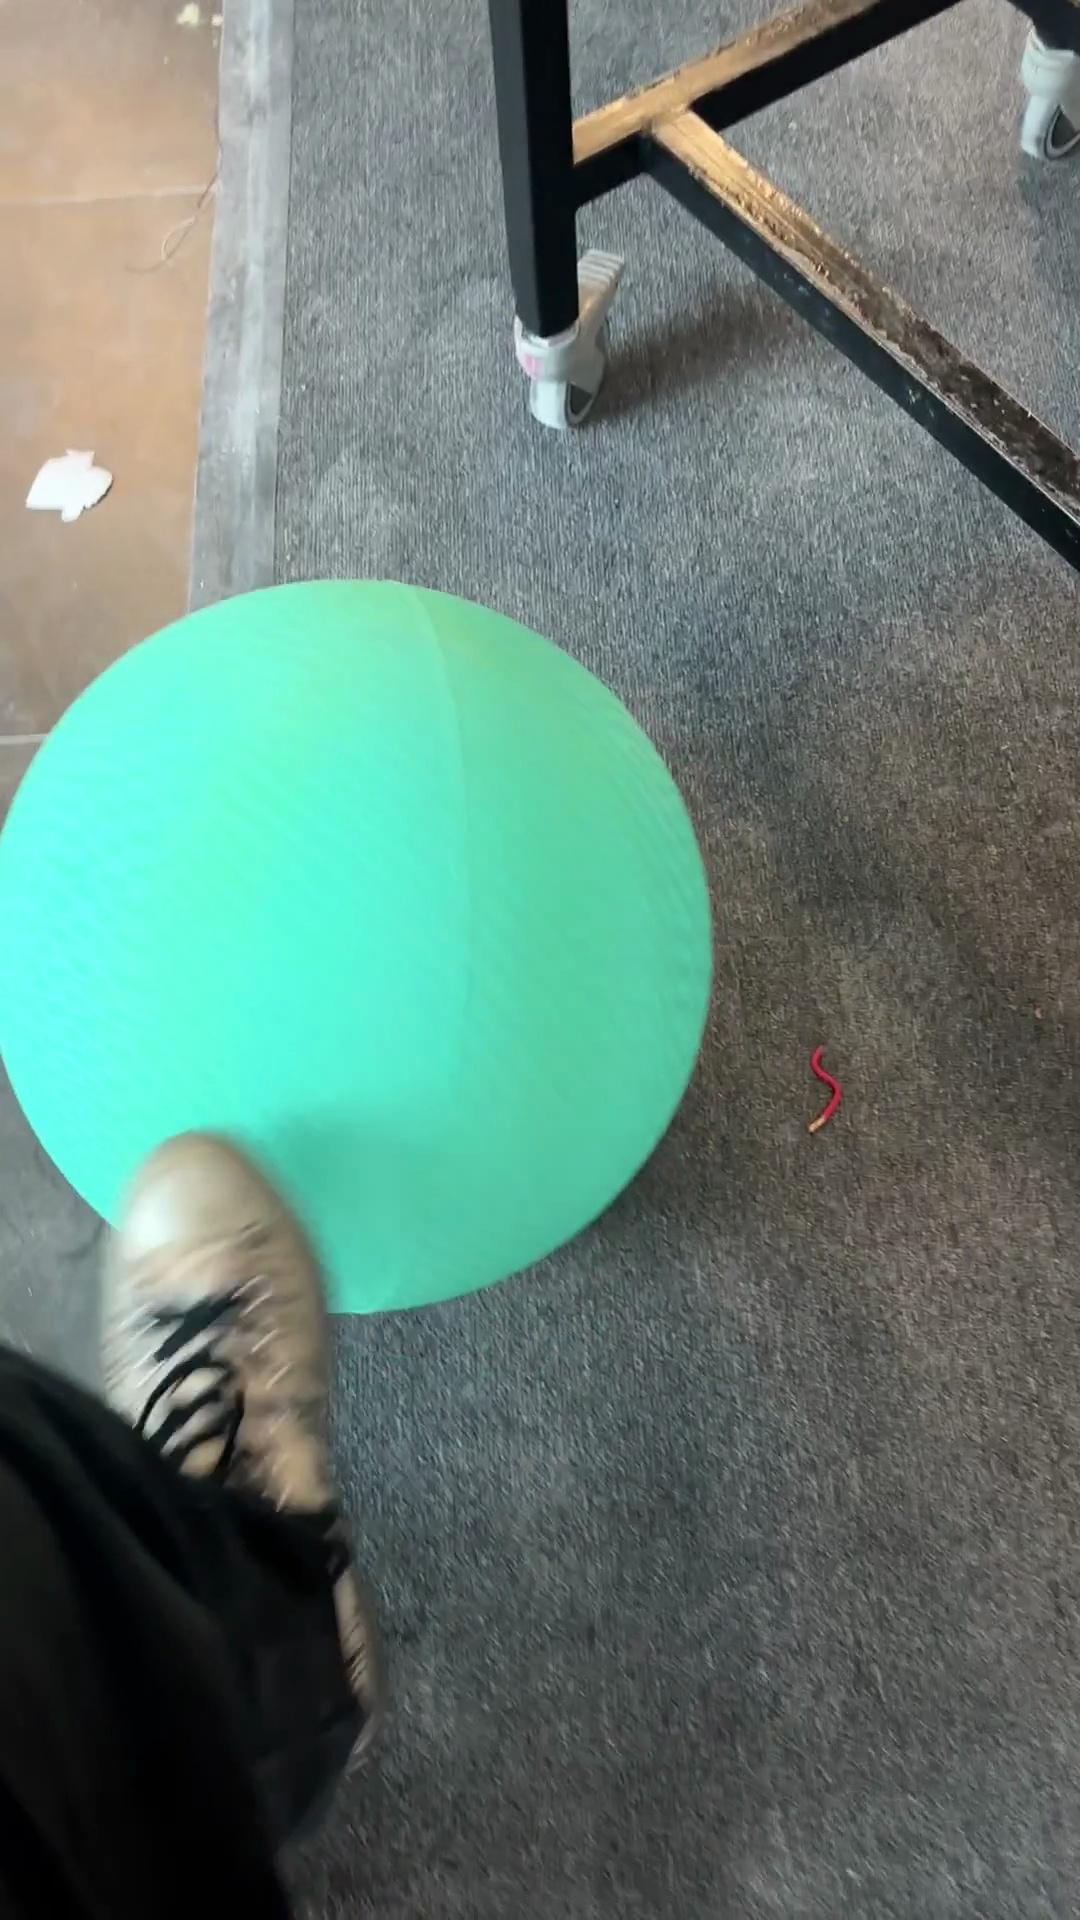ALGAE: (1, 574, 716, 1317)
